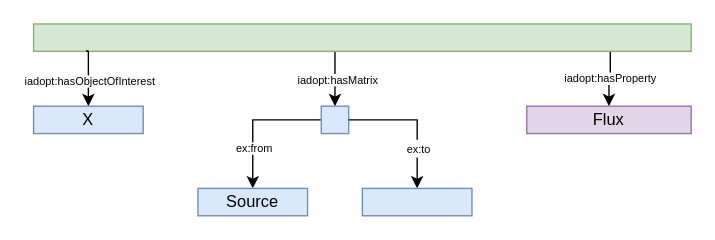
This 715x240 diagram has some shape labels left out. Each missing label, with the box of its shape:
Flow of X from Source to Sink: (32, 23, 691, 51)
Sink: (361, 187, 472, 216)
